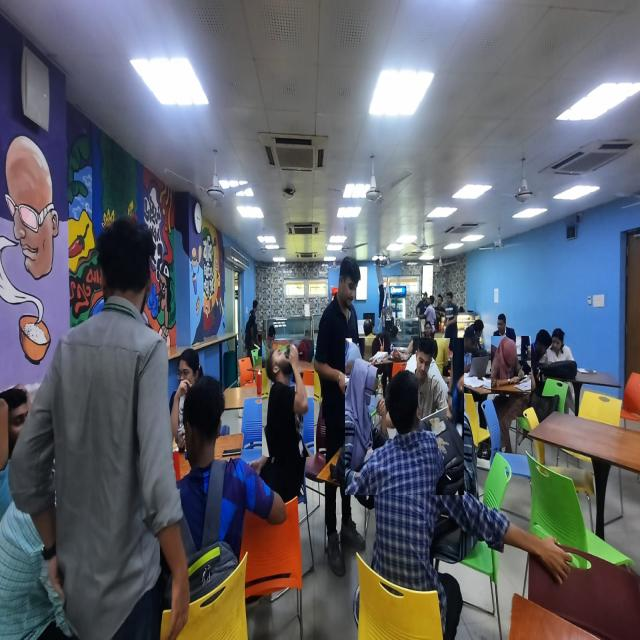eating: (262, 340, 314, 457)
group-studying: (345, 338, 464, 495)
self-studying: (491, 336, 531, 394)
